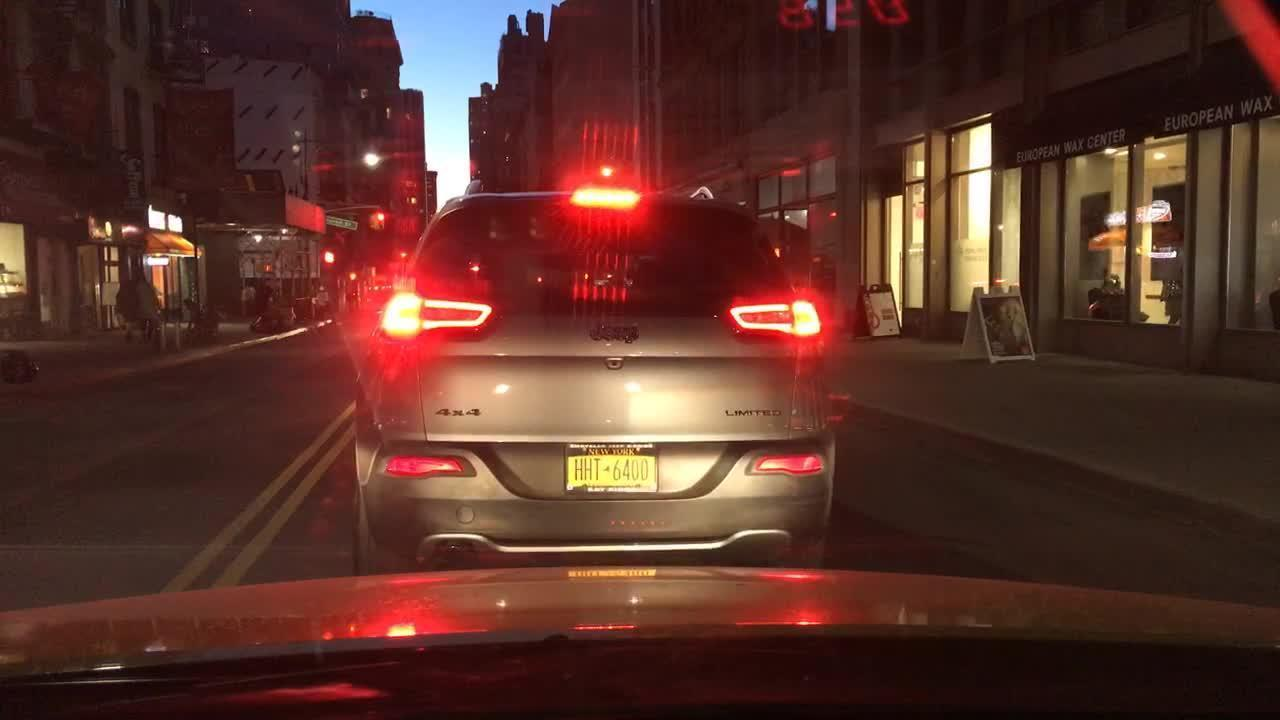jeep: (581, 314, 648, 351)
